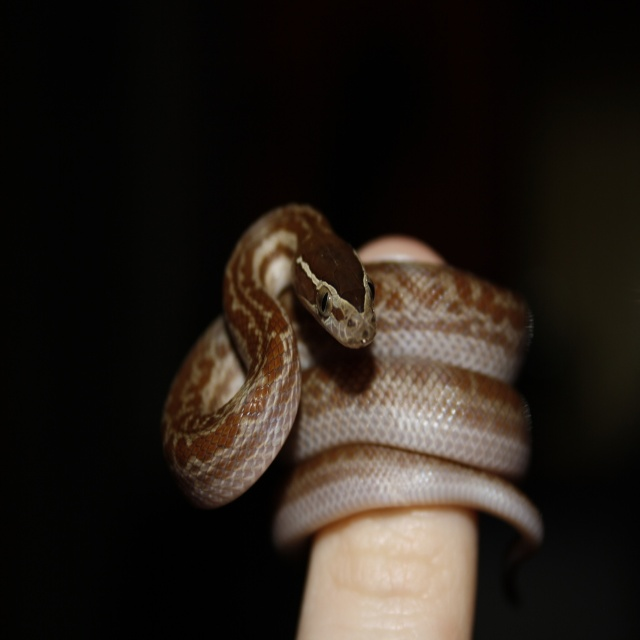Snake: (162, 204, 545, 548)
